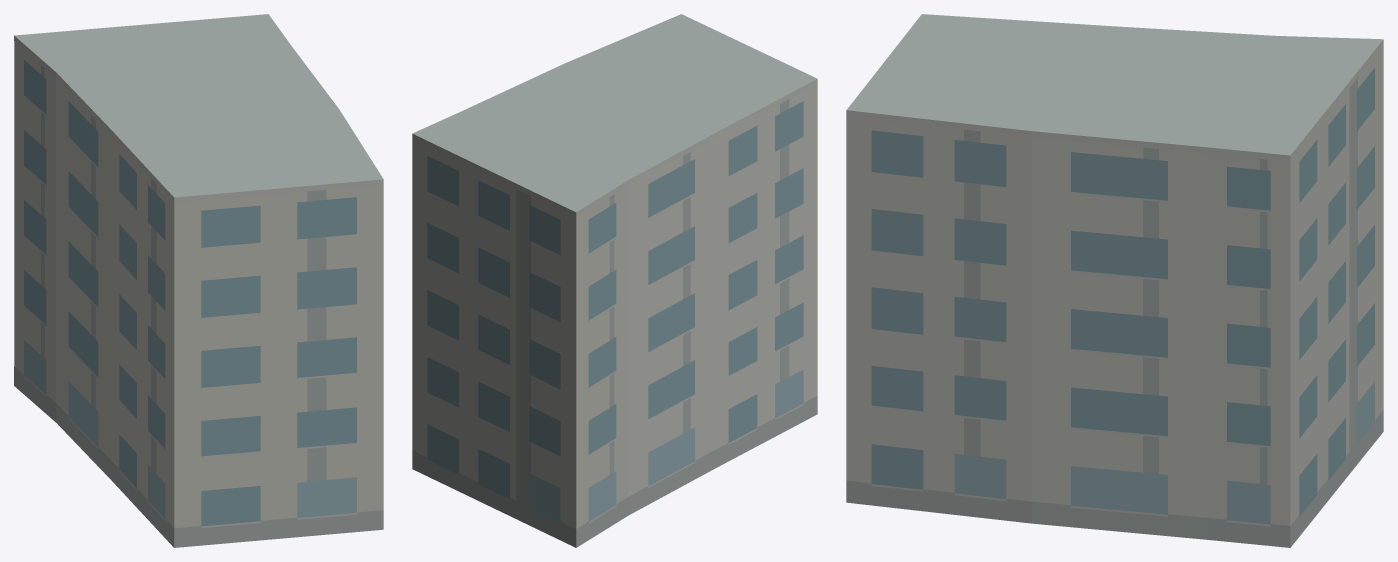
Rendered from survey-upis-32885600.glb.
3 renders of one model, left to right at view 1: azimuth 30°, elevation 25°; view 2: azimuth 150°, elevation 25°; view 3: azimuth 270°, elevation 25°, orthographic. The views are drawn at different scales.
Parts seen in each view (by area): view 1: survey-upis-32885600.tmp; view 2: survey-upis-32885600.tmp; view 3: survey-upis-32885600.tmp.
Boxes of the visible parts, x1,y1,x2,y2 form: survey-upis-32885600.tmp: (14,14,383,547); survey-upis-32885600.tmp: (412,14,817,547); survey-upis-32885600.tmp: (846,14,1383,547).
Bounding box in the file's own units: 11.84 × 15.3 × 18.99.
